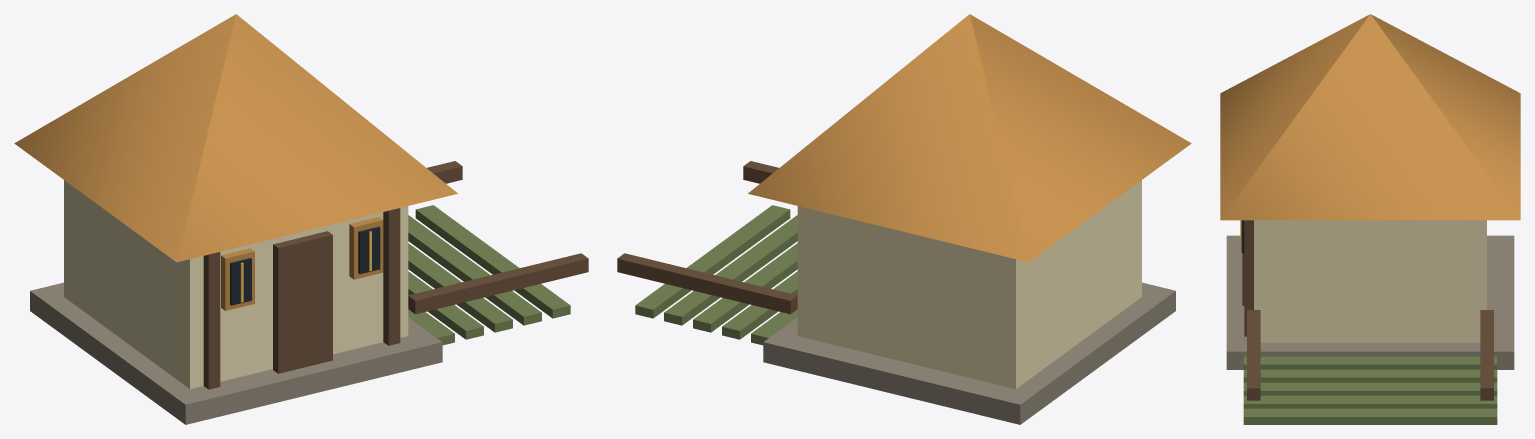
File: farm.glb
The picture shows the model from 3 angles, left to right: view 1: azimuth 30°, elevation 25°; view 2: azimuth 150°, elevation 25°; view 3: azimuth 270°, elevation 25°; orthographic projection. The views are drawn at different scales.
Visible parts, largest first — view 1: farm; view 2: farm; view 3: farm.
Part boxes in pixels (<box>): farm: <box>14,14,588,424</box>; farm: <box>617,14,1191,424</box>; farm: <box>1220,14,1520,424</box>.
Bounding box in the file's own units: 6.64 × 4.8 × 4.38.
